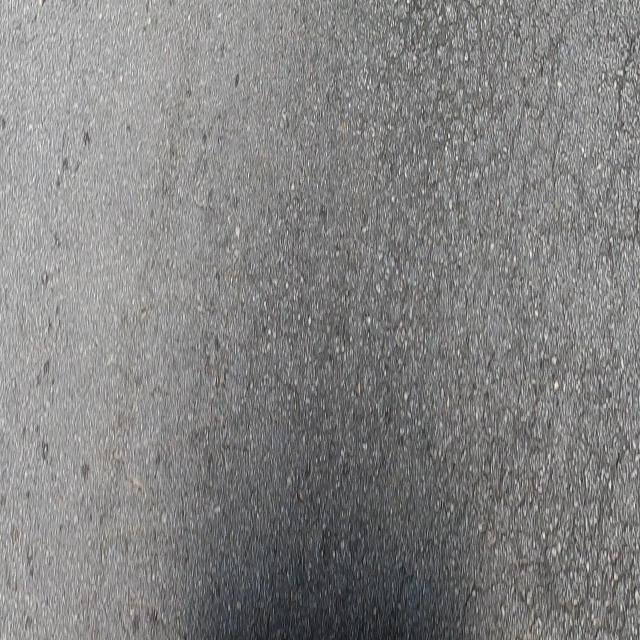Retak-Buaya: (335, 2, 640, 640)
